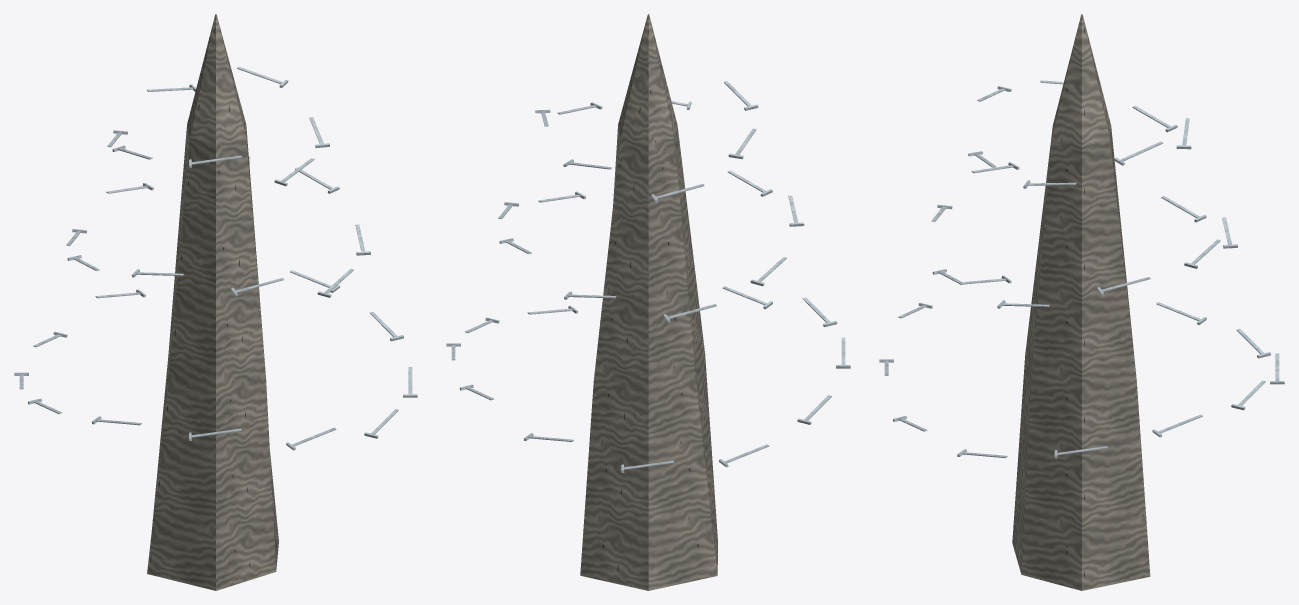
Rendered from sword_spire.glb.
3 renders of one model, left to right at view 1: azimuth 30°, elevation 25°; view 2: azimuth 150°, elevation 25°; view 3: azimuth 270°, elevation 25°, orthographic.
Parts seen in each view (by area): view 1: Spire, Swords; view 2: Spire, Swords; view 3: Spire, Swords.
Boxes of the visible parts, x1,y1,x2,y2 form: Spire: (147, 14, 278, 590); Swords: (14, 66, 417, 450); Spire: (580, 14, 717, 590); Swords: (446, 81, 850, 473); Spire: (1012, 14, 1150, 590); Swords: (879, 80, 1284, 458).
Size of what is drawn, in the model's own units: 12.45 by 18.5 by 12.45.
2 materials, 2 textured.
